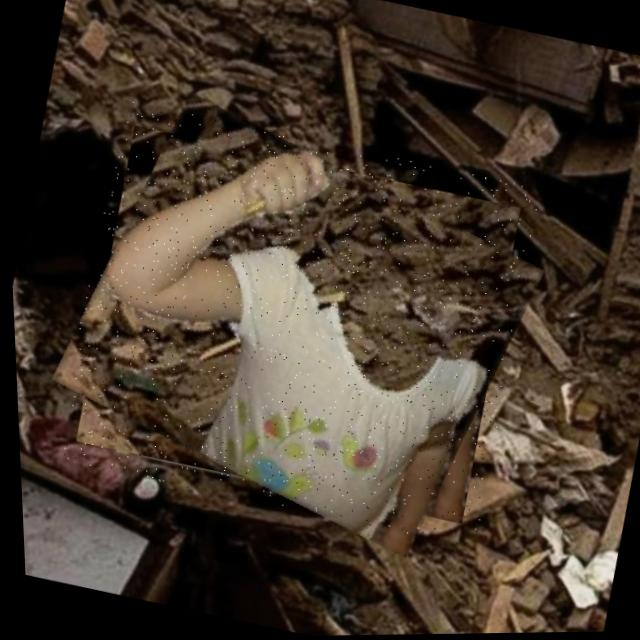Person in Rubble: (38, 95, 551, 555)
